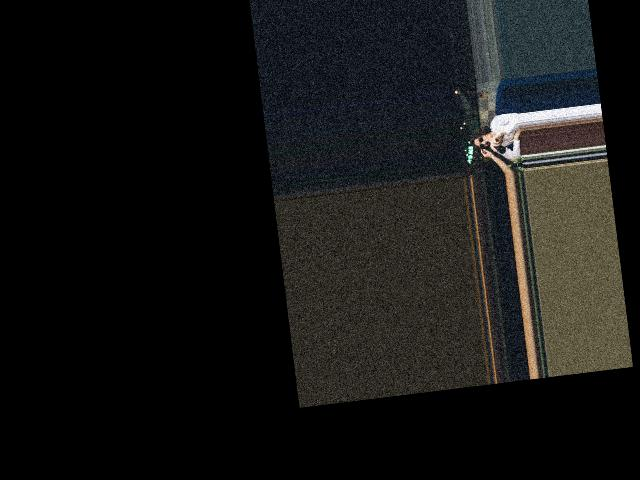beer: (486, 139, 507, 156)
